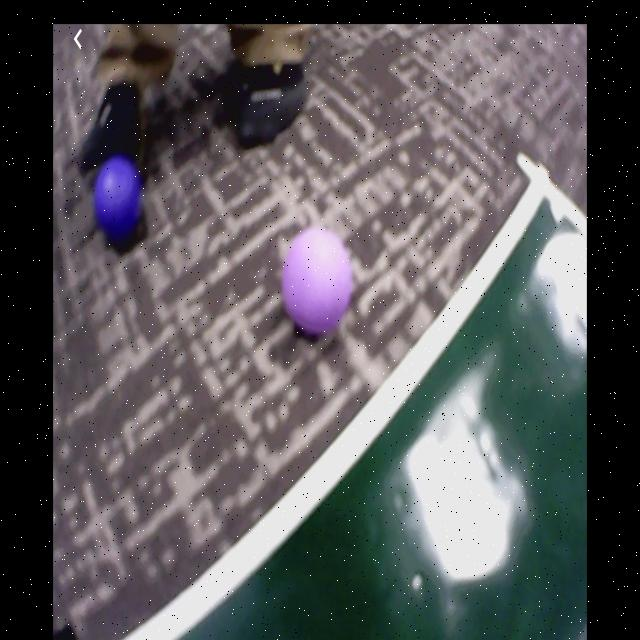ball: (284, 228, 351, 334), (95, 159, 142, 237)
